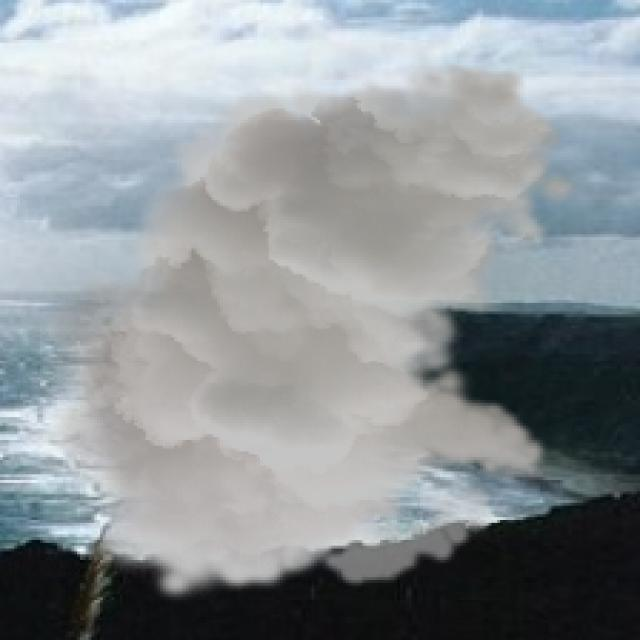smoke: (26, 60, 583, 603)
